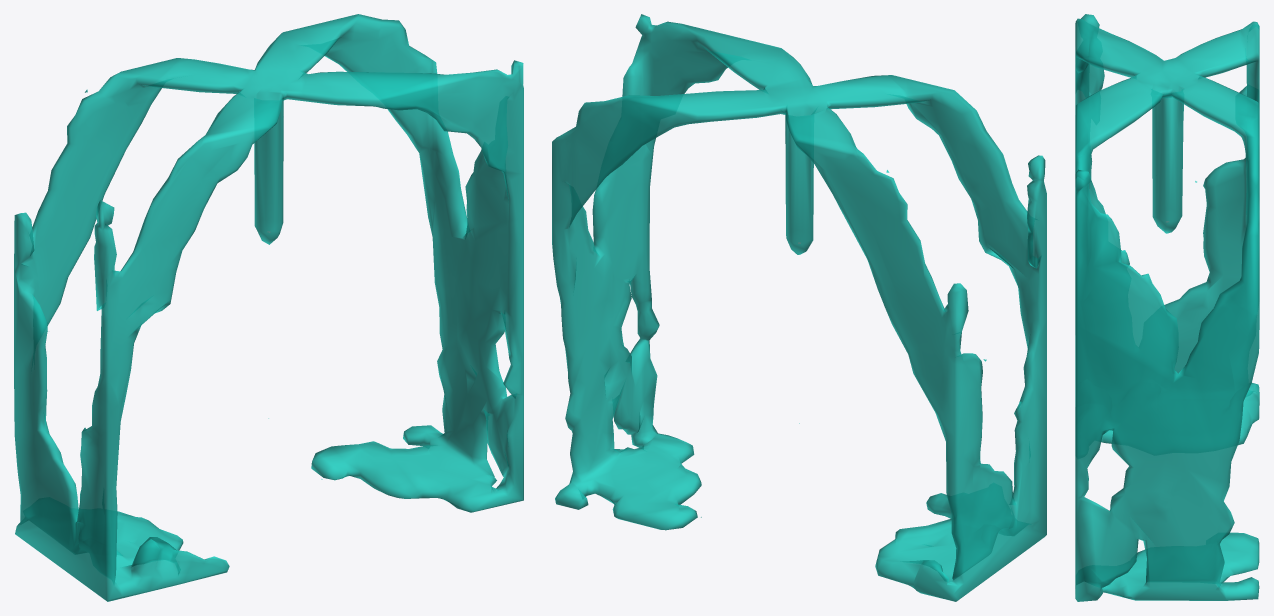
3 renders of one model, left to right at view 1: azimuth 30°, elevation 25°; view 2: azimuth 150°, elevation 25°; view 3: azimuth 270°, elevation 25°, orthographic. The views are drawn at different scales.
Parts seen in each view (by area): view 1: Liquid_Domain; view 2: Liquid_Domain; view 3: Liquid_Domain.
Part boxes in pixels (x1=…): Liquid_Domain: x1=14, y1=14, x2=523, y2=601; Liquid_Domain: x1=552, y1=14, x2=1046, y2=601; Liquid_Domain: x1=1075, y1=14, x2=1259, y2=601.
Size of the model in its own units: 884 by 884 by 345.
